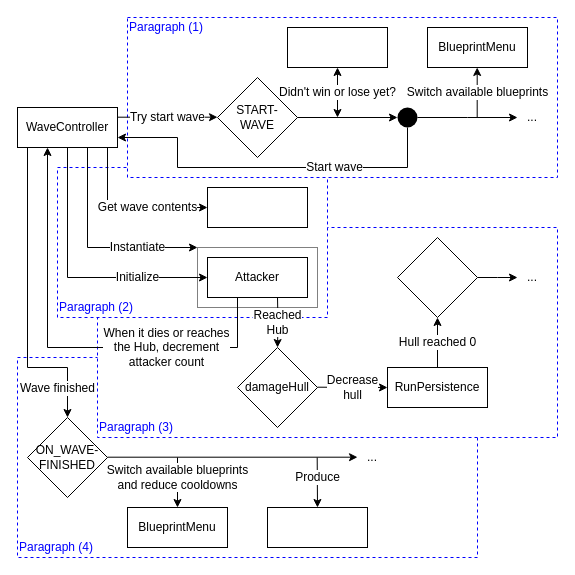
Some shapes in this 575 by 575 pixel diagram are drawn without their labels. The centre of each missing label's shape, as x and y in pixels:
"defeat" goes at pixel 437 277.
"PlayerState" goes at pixel 337 47.
"Production building" goes at pixel 317 527.
"WaveGenerator" goes at pixel 257 207.
